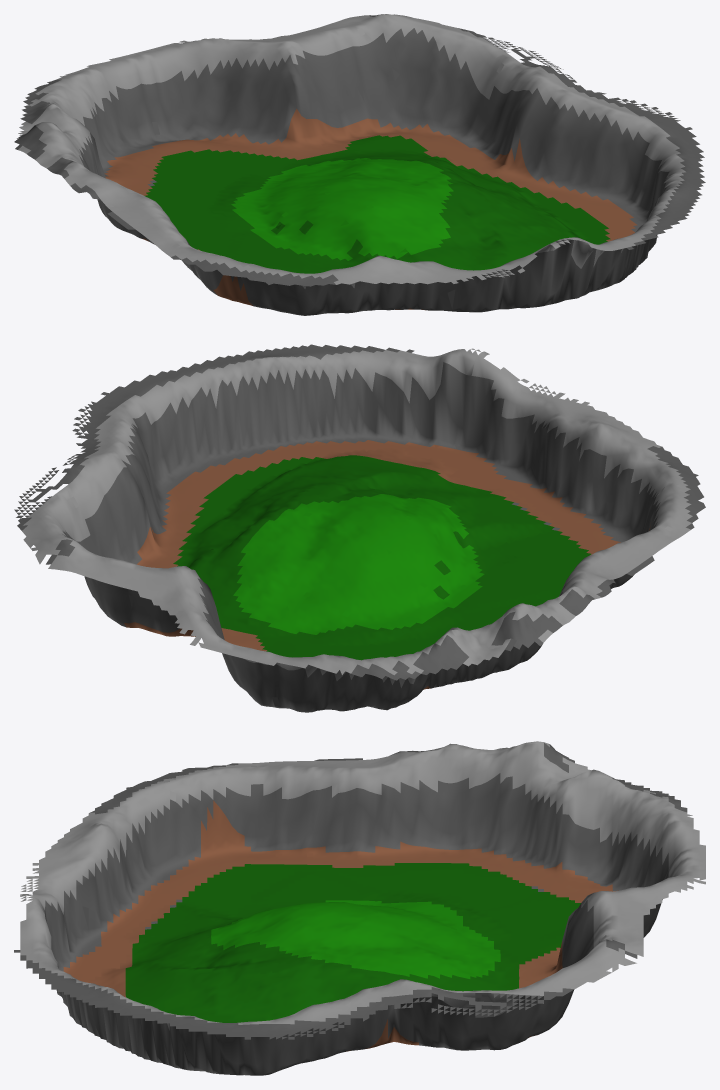
Rendered from paysage2.glb.
The picture shows the model from 3 angles, top to bottom: view 1: azimuth 30°, elevation 25°; view 2: azimuth 150°, elevation 25°; view 3: azimuth 270°, elevation 25°; orthographic projection. The views are drawn at different scales.
Parts seen in each view (by area): view 1: paysage1-col; view 2: paysage1-col; view 3: paysage1-col.
Boxes of the visible parts, x1=… form: paysage1-col: x1=14, y1=14, x2=705, y2=315; paysage1-col: x1=14, y1=344, x2=705, y2=712; paysage1-col: x1=14, y1=741, x2=705, y2=1075.
Bounding box in the file's own units: 10.28 × 1.77 × 10.76.
1 material, 1 textured.
